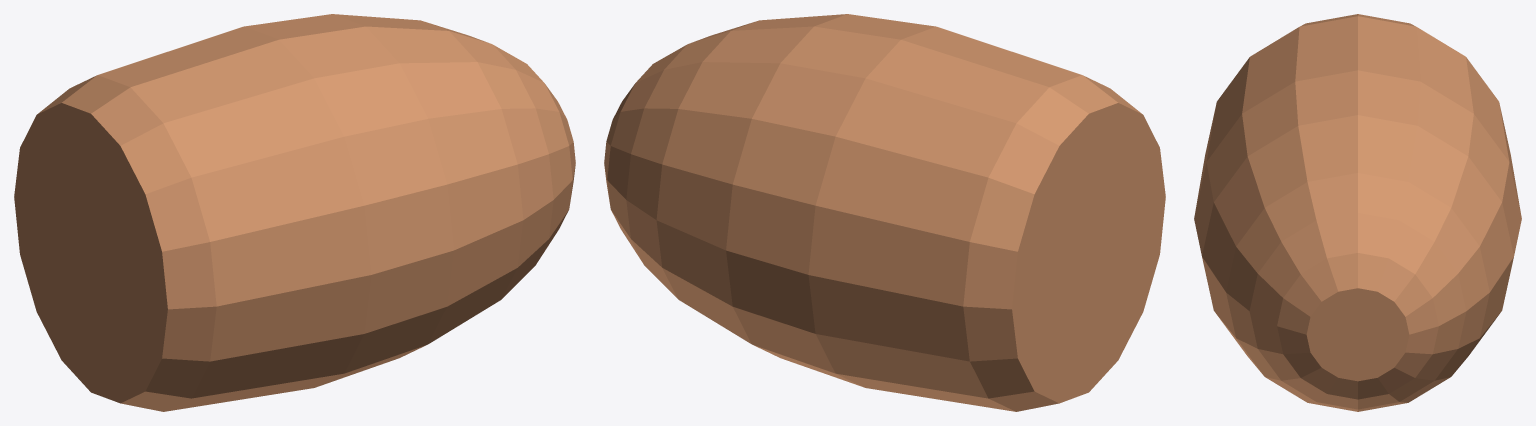
The model's file is smgBullet.fbx.
The picture shows the model from 3 angles, left to right: view 1: azimuth 30°, elevation 25°; view 2: azimuth 150°, elevation 25°; view 3: azimuth 270°, elevation 25°; orthographic projection. The views are drawn at different scales.
Visible parts, largest first — view 1: Cylinder; view 2: Cylinder; view 3: Cylinder.
Boxes of the visible parts, bbox=[...] form: Cylinder: bbox=[14, 14, 575, 411]; Cylinder: bbox=[604, 14, 1165, 411]; Cylinder: bbox=[1194, 14, 1521, 411].
Bounding box in the file's own units: 2.28 × 1.6 × 1.6.
